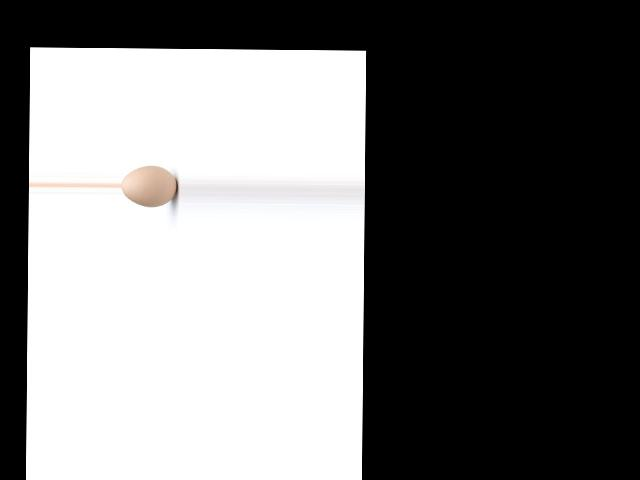egg: (121, 165, 177, 207)
